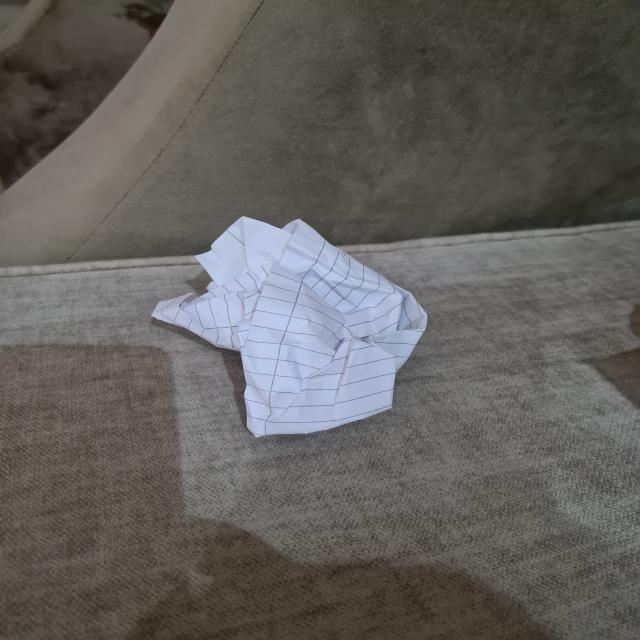Paper: (159, 219, 429, 430)
